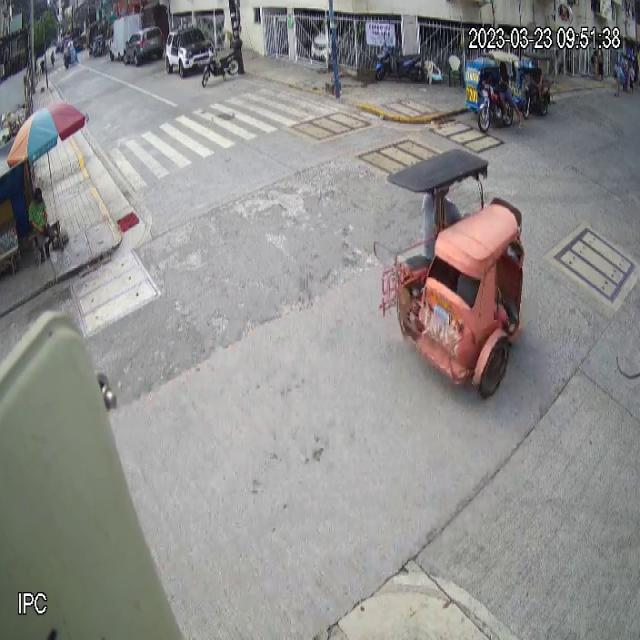Motorcycle: (375, 44, 424, 83), (202, 48, 240, 88)
Tricycle: (372, 145, 527, 400), (464, 50, 520, 134)
